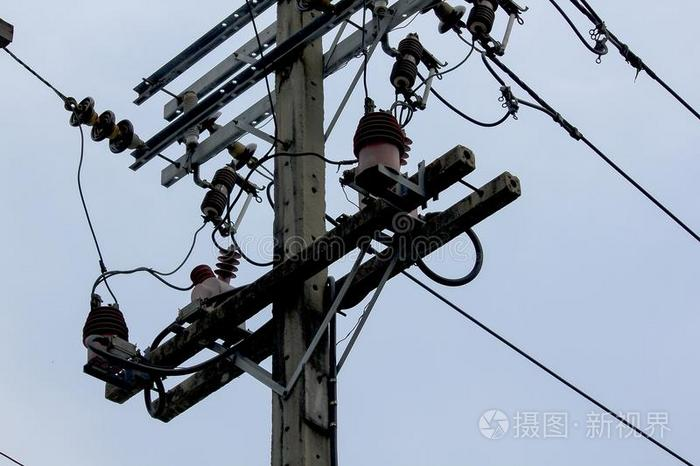insulator: (68, 95, 133, 153), (215, 247, 242, 279)
